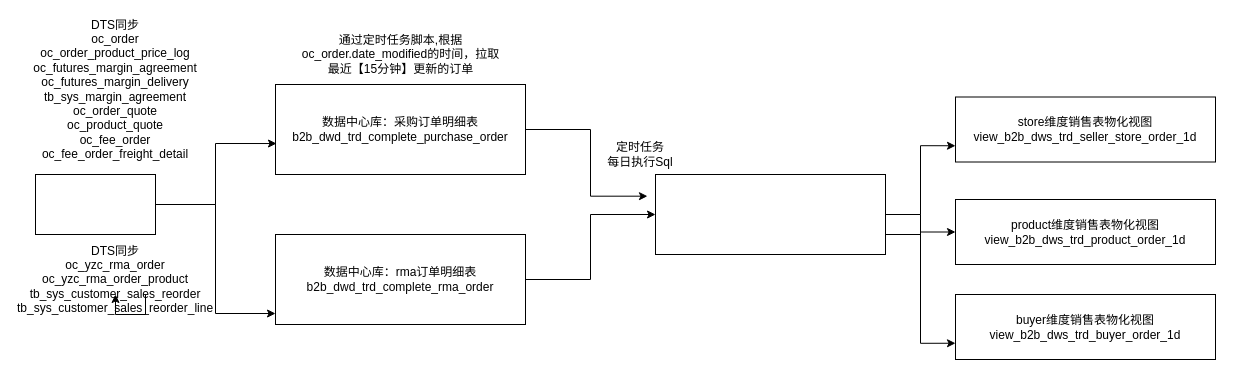
The diagram is 1233 pixels wide and 377 high, and some of its shapes have lost their labels. Here are the shapes that lost their labels. From the top down, the centre of each, then its label:
At (x=95, y=204): "yzc库".
At (x=770, y=214): "buyer&product_id销售表 b2b_dws_trd_buyer_product_order_1d".
